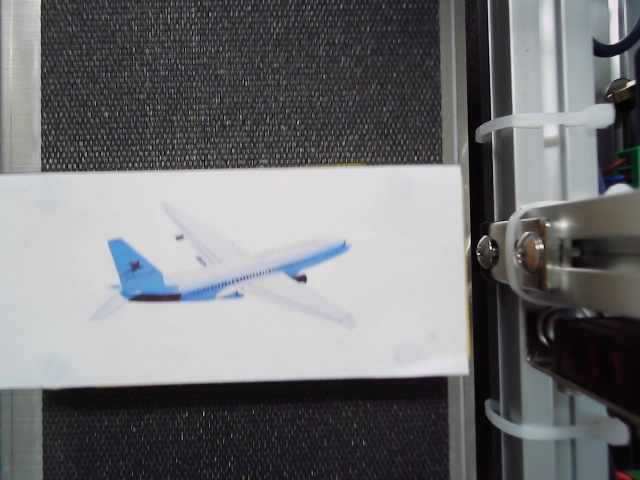airplane: (92, 202, 358, 332)
